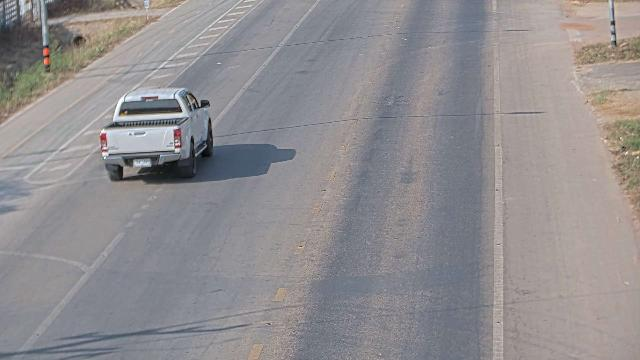pickup-truck: (99, 85, 214, 181)
